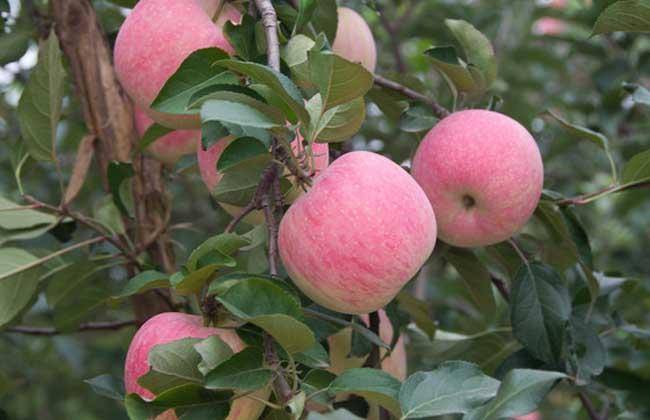apple: (277, 151, 436, 312), (410, 107, 544, 248), (113, 1, 252, 129), (126, 313, 268, 420), (197, 123, 331, 221), (331, 6, 378, 81)
